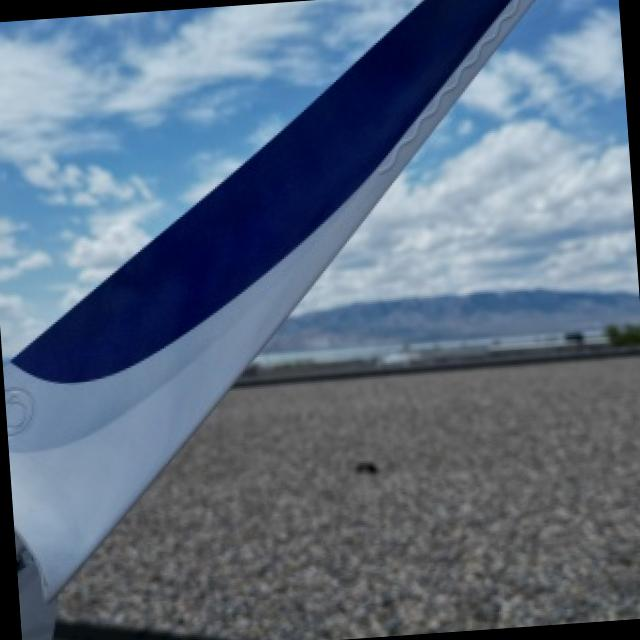healthy: (62, 478, 640, 638)
